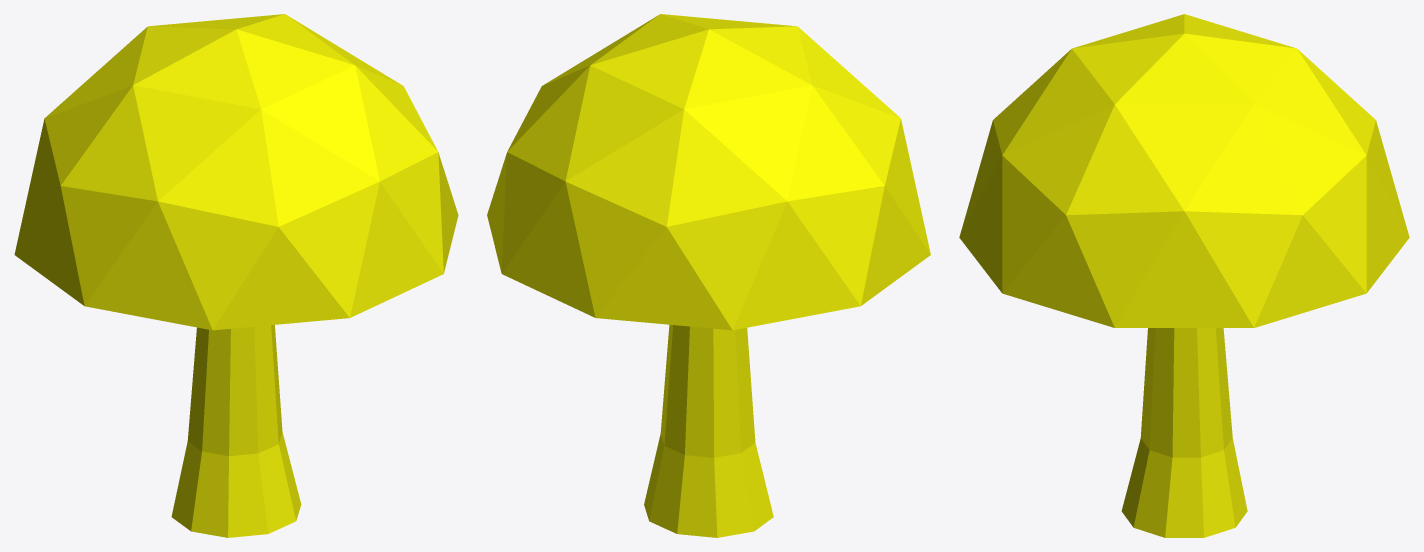
Rendered from mushrooom01_brown.glb.
3 renders of one model, left to right at view 1: azimuth 30°, elevation 25°; view 2: azimuth 150°, elevation 25°; view 3: azimuth 270°, elevation 25°, orthographic.
Visible parts, largest first — view 1: mushrooom01_brown; view 2: mushrooom01_brown; view 3: mushrooom01_brown.
Boxes of the visible parts, <box> form: mushrooom01_brown: <box>14,14,458,537</box>; mushrooom01_brown: <box>487,14,930,537</box>; mushrooom01_brown: <box>959,14,1409,537</box>.
Bounding box in the file's own units: 1.18 × 1.46 × 1.25.
Materials: 1 (1 with a texture image).
